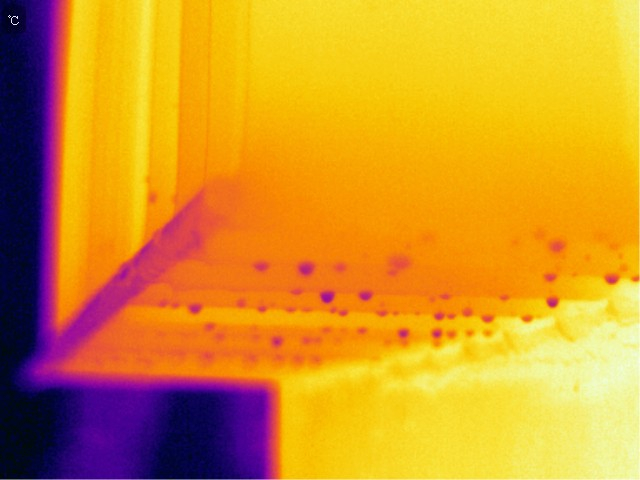Water: (593, 269, 630, 291), (295, 258, 320, 277), (538, 268, 565, 285), (429, 308, 461, 322), (184, 299, 213, 314), (252, 259, 278, 275), (355, 287, 380, 303), (542, 292, 563, 311), (543, 238, 569, 252), (426, 325, 449, 340), (394, 326, 412, 343), (480, 310, 498, 324), (253, 301, 271, 315), (374, 308, 399, 318), (238, 294, 249, 316), (358, 321, 371, 339), (201, 320, 219, 333), (318, 290, 337, 302), (519, 311, 535, 325), (268, 333, 285, 346), (326, 307, 349, 315), (464, 304, 473, 321)
